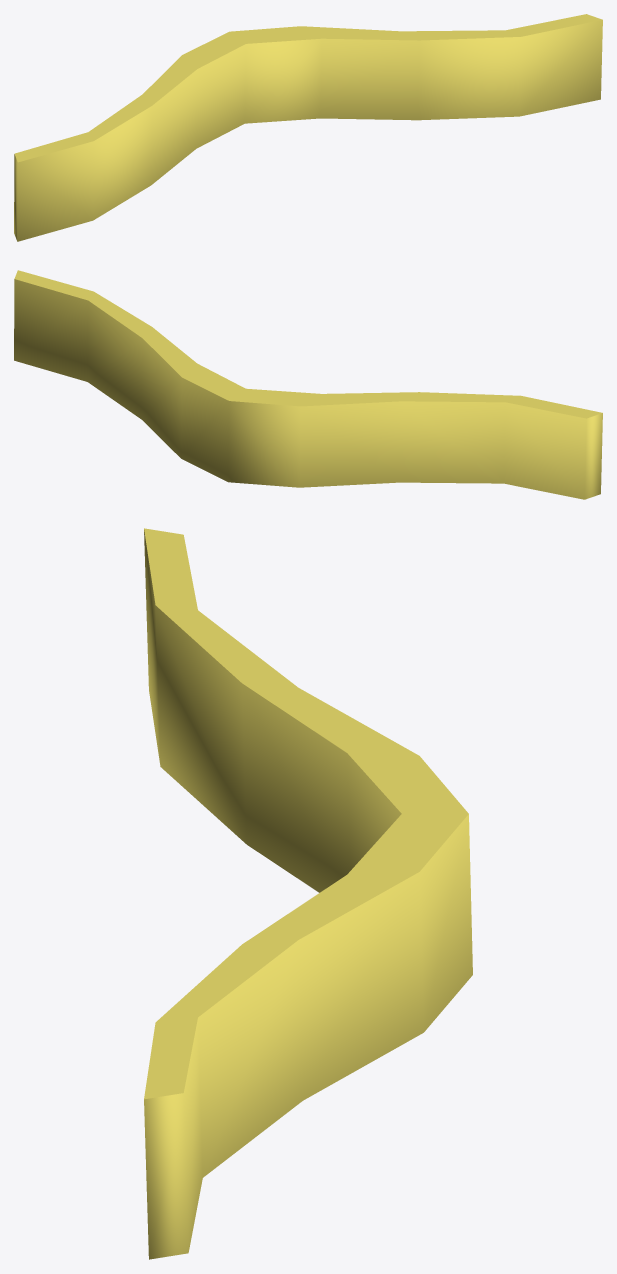
File: Divider.fbx
The picture shows the model from 3 angles, top to bottom: view 1: azimuth 30°, elevation 25°; view 2: azimuth 150°, elevation 25°; view 3: azimuth 270°, elevation 25°; orthographic projection. The views are drawn at different scales.
Parts seen in each view (by area): view 1: Dividers.003; view 2: Dividers.003; view 3: Dividers.003.
Part boxes in pixels (<box>): Dividers.003: <box>14,14,602,241</box>; Dividers.003: <box>14,270,602,499</box>; Dividers.003: <box>144,528,472,1259</box>.
Bounding box in the file's own units: 3945 × 519 × 961.
